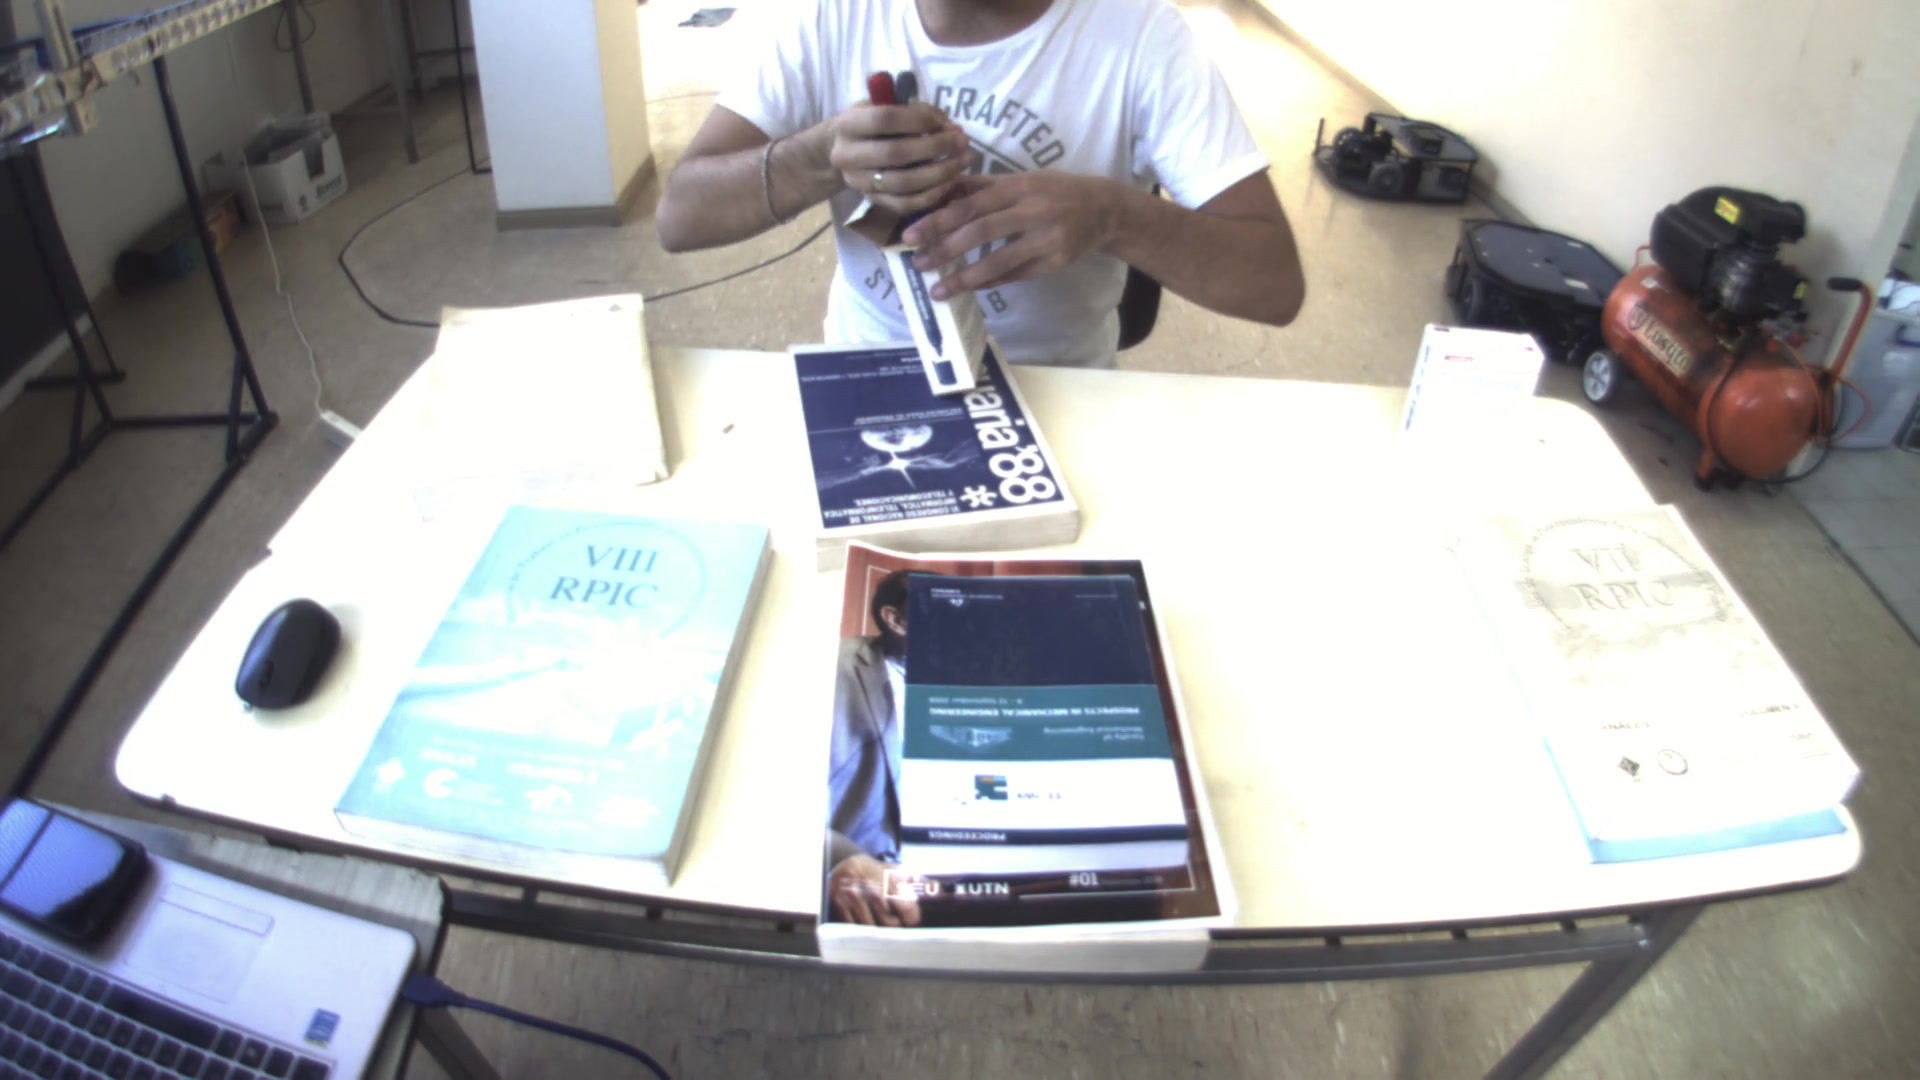hand: (899, 152, 1117, 295), (807, 90, 972, 218)
